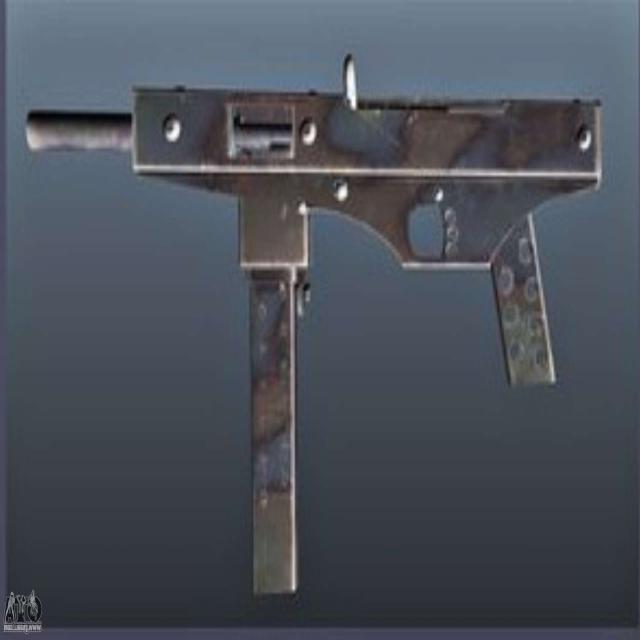smg: (14, 45, 593, 593)
